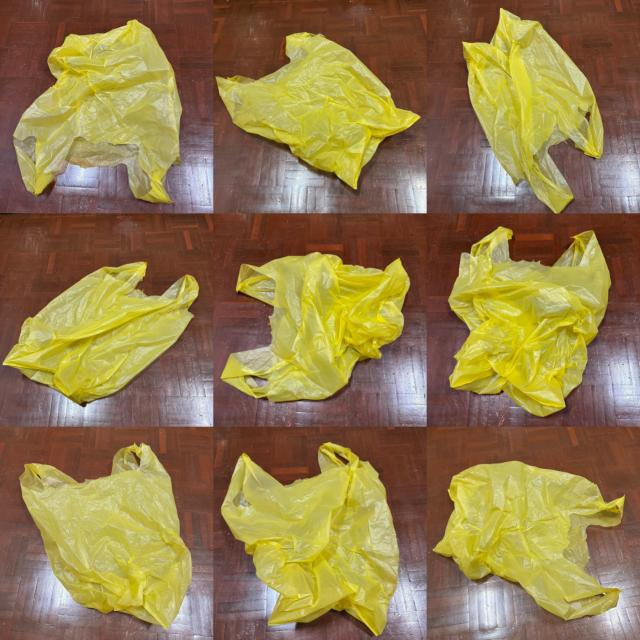Single-layer Plastic: (221, 442, 399, 635), (216, 32, 419, 188), (20, 444, 191, 628), (14, 20, 182, 202), (449, 228, 610, 416), (435, 461, 624, 620), (462, 9, 604, 212), (221, 252, 410, 401), (4, 262, 199, 404)
